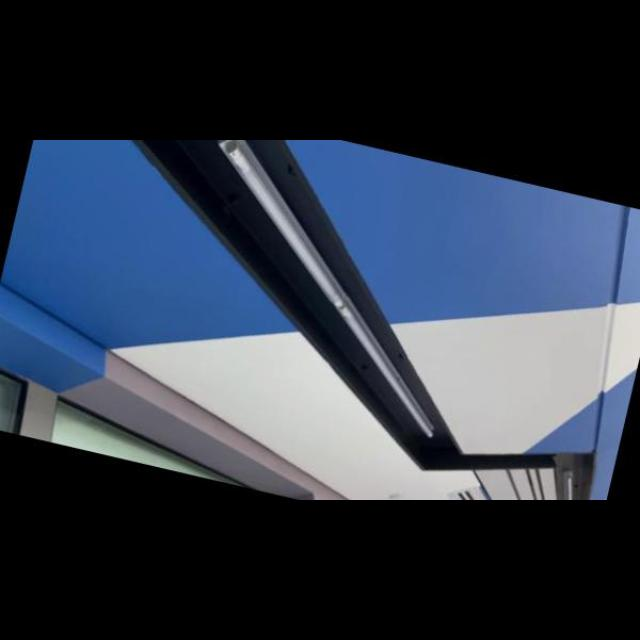Straight-Tube-Fluorescent-Lamp: (146, 140, 499, 456)
